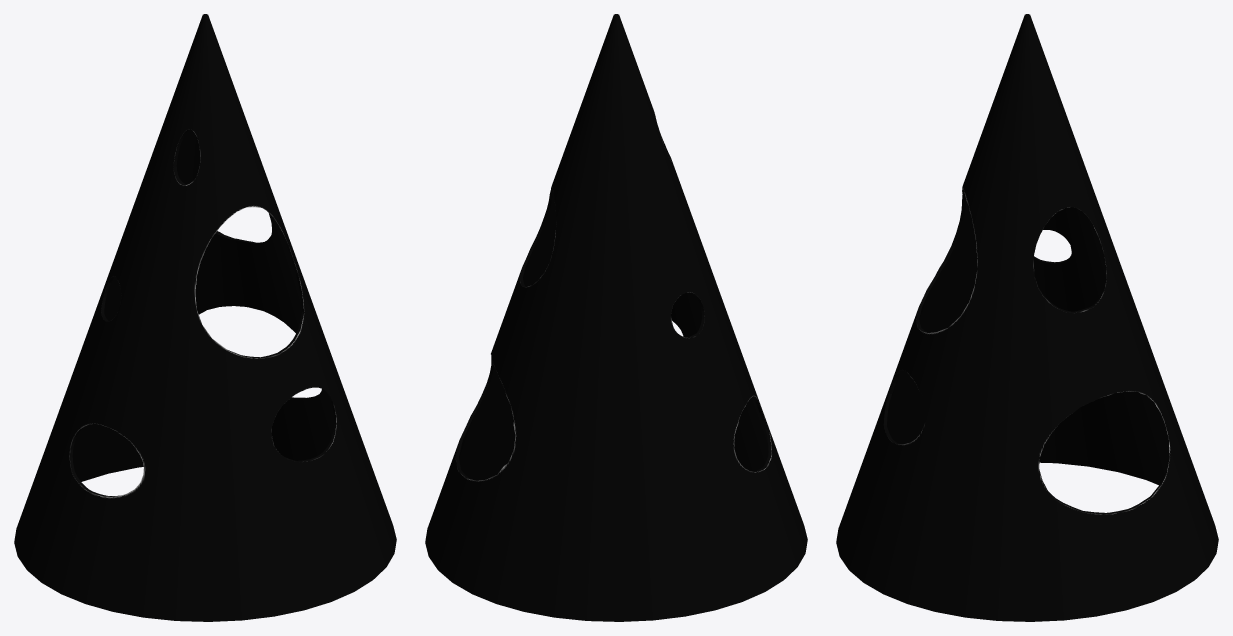
The model's file is BaseCap1.fbx.
3 renders of one model, left to right at view 1: azimuth 30°, elevation 25°; view 2: azimuth 150°, elevation 25°; view 3: azimuth 270°, elevation 25°, orthographic.
Visible parts, largest first — view 1: Plane5; view 2: Plane5; view 3: Plane5.
Part boxes in pixels (<box>): Plane5: <box>14,14,396,621</box>; Plane5: <box>425,14,807,621</box>; Plane5: <box>836,14,1218,621</box>.
Bounding box in the file's own units: 627 × 953 × 627.
